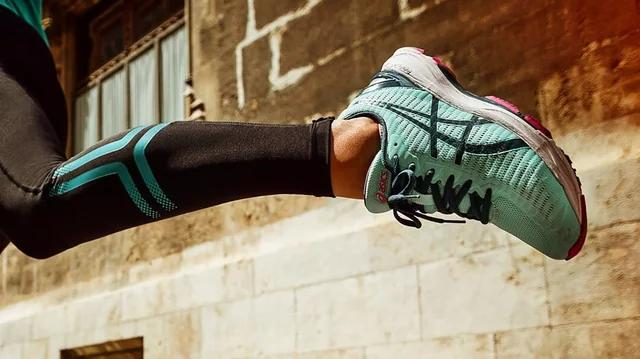asics logo: (347, 86, 536, 176)
